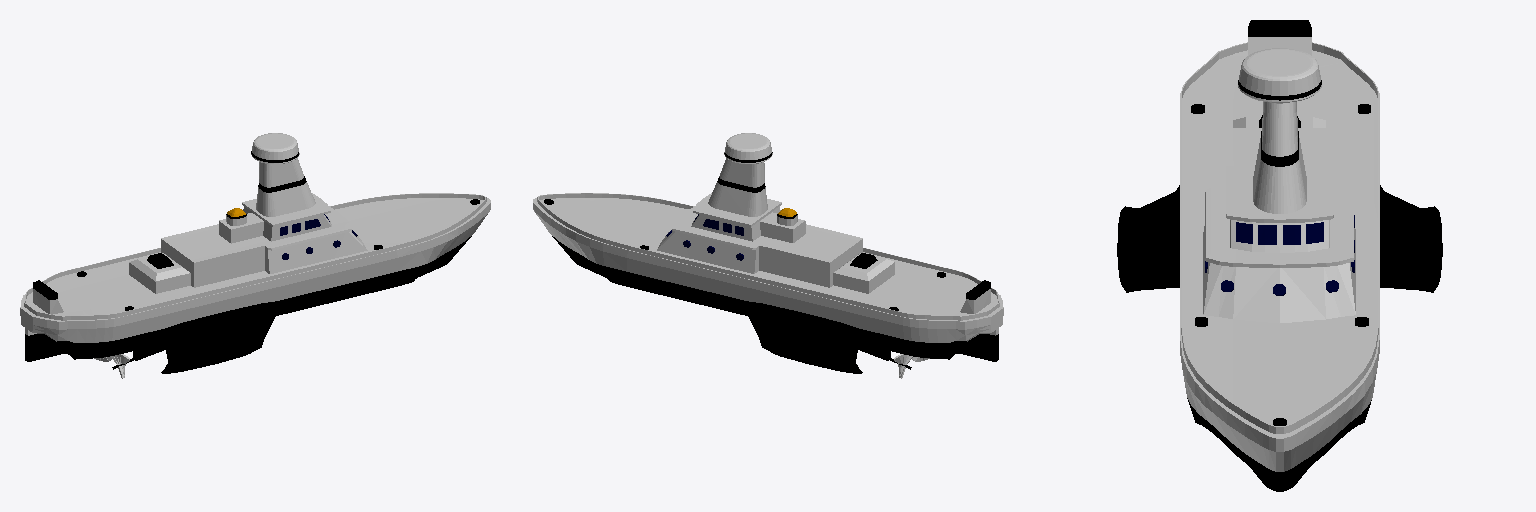
URDF robot description (tuna):
<robot name="tuna">

	<link name="base_link">
		<visual>
			<geometry>
				<mesh filename="package://tuna_gazebo/meshes/boat.dae"/>
			</geometry>
		</visual>
	</link>

	<link name="prop_left">
		<visual>
			<geometry>
				<mesh filename="package://tuna_gazebo/meshes/prop_left.dae"/>
			</geometry>
		</visual>
	</link>

	<link name="prop_right">
		<visual>
			<geometry>
				<mesh filename="package://tuna_gazebo/meshes/prop_right.dae"/>
			</geometry>
		</visual>
	</link>

	<link name="gps"/>
	<link name="imu_link"/>

	<joint name="base_to_imu" type="fixed">
		<parent link="base_link"/>
		<child link="imu_link"/>
		<origin xyz="0.193 0 0.004" rpy="0 0 0" />
	</joint>

	<joint name="base_to_gps" type="fixed"> 
		<parent link="base_link"/>
		<child link="gps"/>
		<origin xyz="0.016 0 0.12" rpy="0 0 0" />
	</joint>

	<joint name="base_to_prop_right" type="continuous">
		<parent link="base_link"/>
		<child link="prop_right"/>
		<origin xyz="-0.14 -0.018 -0.043" rpy="0 -0.19 0" />
		<limit effort="1" velocity="12"/>
		<axis xyz="1 0 0"/>
	</joint>

	<joint name="base_to_prop_left" type="continuous">
		<parent link="base_link"/>
		<child link="prop_left"/>
		<origin xyz="-0.14 0.018 -0.043" rpy="0 -0.19 0" />
		<limit effort="1" velocity="12"/>
		<axis xyz="1 0 0"/>
	</joint>

</robot>

--- Facts derived from the render (not from the file) ---
The picture shows the robot from 3 angles, left to right: view 1: azimuth 30°, elevation 25°; view 2: azimuth 150°, elevation 25°; view 3: azimuth 270°, elevation 25°; orthographic projection.
Robot: tuna — 5 links, 4 joints (2 continuous, 2 fixed); root link base_link; default pose: every joint at zero.
Links seen in each view (by area): view 1: base_link; view 2: base_link; view 3: base_link.
Boxes of the visible links, x1,y1,x2,y2 form: base_link: [20, 133, 490, 373]; base_link: [533, 133, 1003, 373]; base_link: [1117, 20, 1442, 491].
Size in the robot's own frame: 0.4825 by 0.1682 by 0.187 metres.
3 mesh visuals loaded from 3 distinct referenced files (3 Collada DAE).